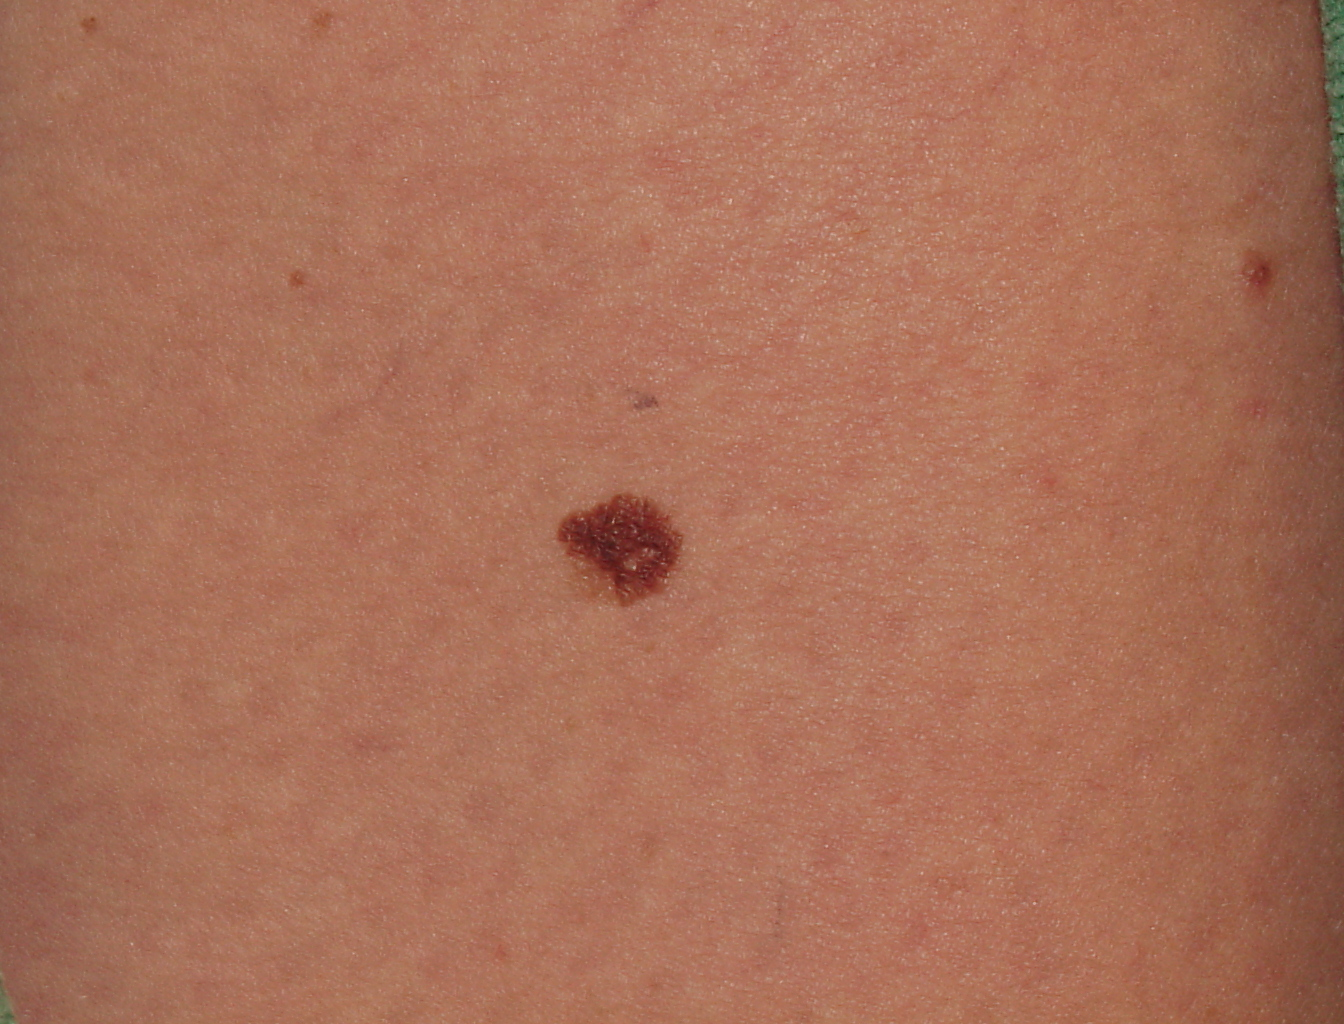melanoma: (498, 433, 793, 703)
